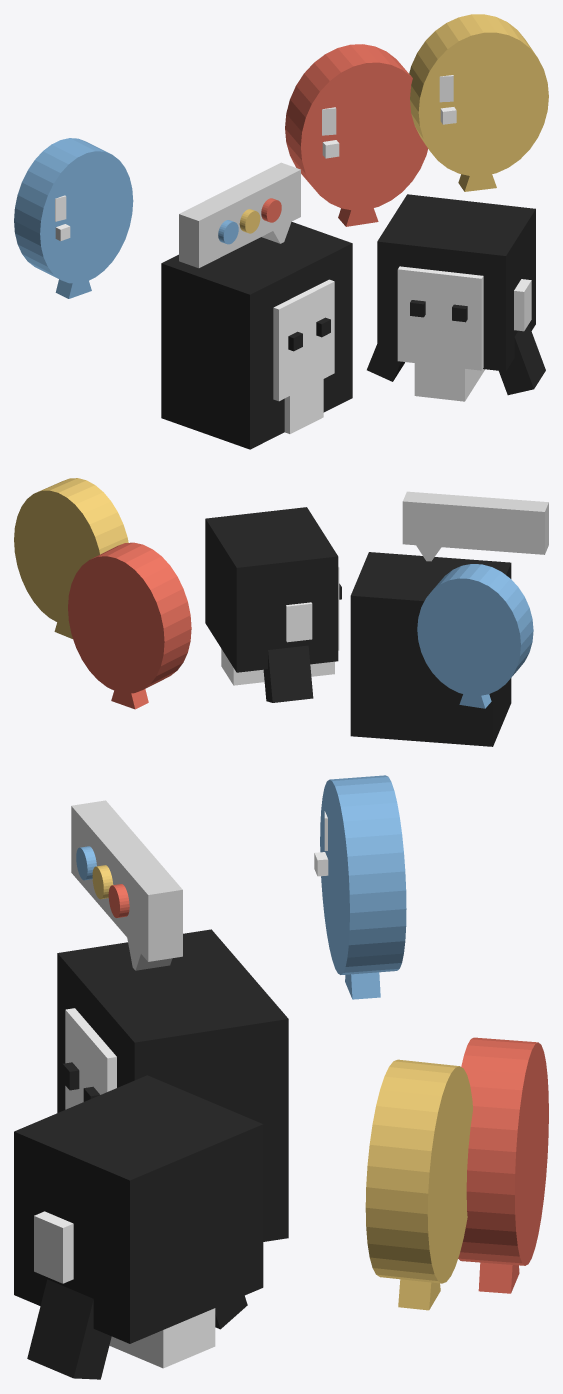
The model's file is friendship.glb.
The picture shows the model from 3 angles, top to bottom: view 1: azimuth 30°, elevation 25°; view 2: azimuth 150°, elevation 25°; view 3: azimuth 270°, elevation 25°; orthographic projection. The views are drawn at different scales.
Parts seen in each view (by area): view 1: Cube.052, Cylinder.005, Cylinder.006, Cube.001, Cylinder.007, Cube.029, Cube.062, Cube.051, Cube.028, Cube.054, Cube.032, Cube.027 (+3 smaller); view 2: Cube.052, Cube.001, Cylinder.005, Cylinder.007, Cylinder.006, Cube.062, Cube.031, Cube.027, Cube.028, Cube.045, Cube.058; view 3: Cube.001, Cube.052, Cylinder.006, Cylinder.005, Cylinder.007, Cube.062, Cube.032, Cube.051, Cube.028, Cube.027, Cube.045, Cube.057 (+1 smaller).
Part boxes in pixels (x1,y1,x2,y2): Cube.052: (161,222,352,449); Cylinder.005: (285,44,427,210); Cylinder.006: (409,14,548,176); Cube.001: (377,194,535,371); Cylinder.007: (14,138,133,283); Cube.029: (397,266,483,370); Cube.062: (179,162,300,268); Cube.051: (273,279,334,401); Cube.028: (414,338,484,401); Cube.054: (284,357,323,433); Cube.032: (499,324,545,395); Cube.027: (514,279,531,331); Cube.052: (350,552,511,746); Cube.001: (205,507,338,672); Cylinder.005: (68,542,191,693); Cylinder.007: (417,564,533,695); Cylinder.006: (14,478,128,624); Cube.062: (402,491,548,554); Cube.031: (263,645,313,702); Cube.027: (286,602,312,642); Cube.028: (221,649,334,685); Cube.045: (111,689,148,709); Cube.058: (459,694,491,708); Cube.001: (14,1075,263,1343); Cube.052: (57,929,288,1241); Cylinder.006: (365,1059,472,1283); Cylinder.005: (458,1037,548,1265); Cylinder.007: (320,775,406,974); Cube.062: (71,800,182,961); Cube.032: (27,1279,111,1379); Cube.051: (65,1008,116,1109); Cube.028: (109,1308,215,1368); Cube.027: (34,1211,73,1283); Cube.045: (478,1262,519,1293); Cube.057: (398,1279,440,1310).
Bounding box in the file's own units: 4.31 × 1.93 × 2.61.
14 materials, 1 textured.
